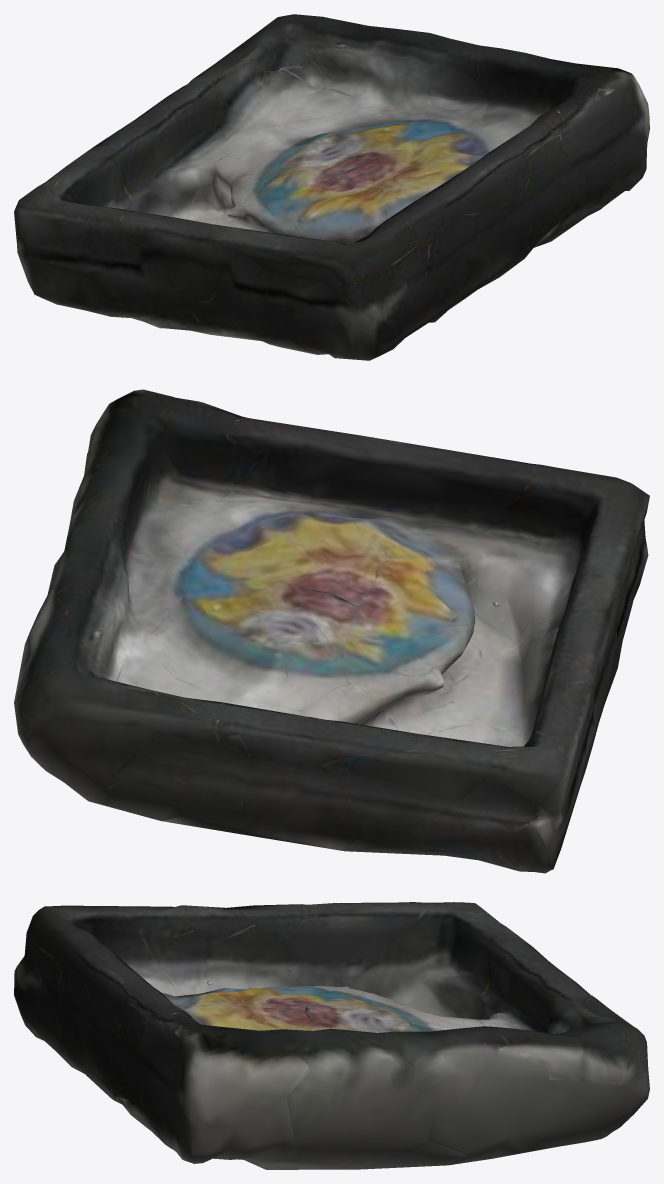
File: hall.glb
3 renders of one model, top to bottom at view 1: azimuth 30°, elevation 25°; view 2: azimuth 150°, elevation 25°; view 3: azimuth 270°, elevation 25°, orthographic. The views are drawn at different scales.
Size of the model in its own units: 0.9145 by 0.35 by 0.9142.
Materials: 1 (1 with a texture image).
